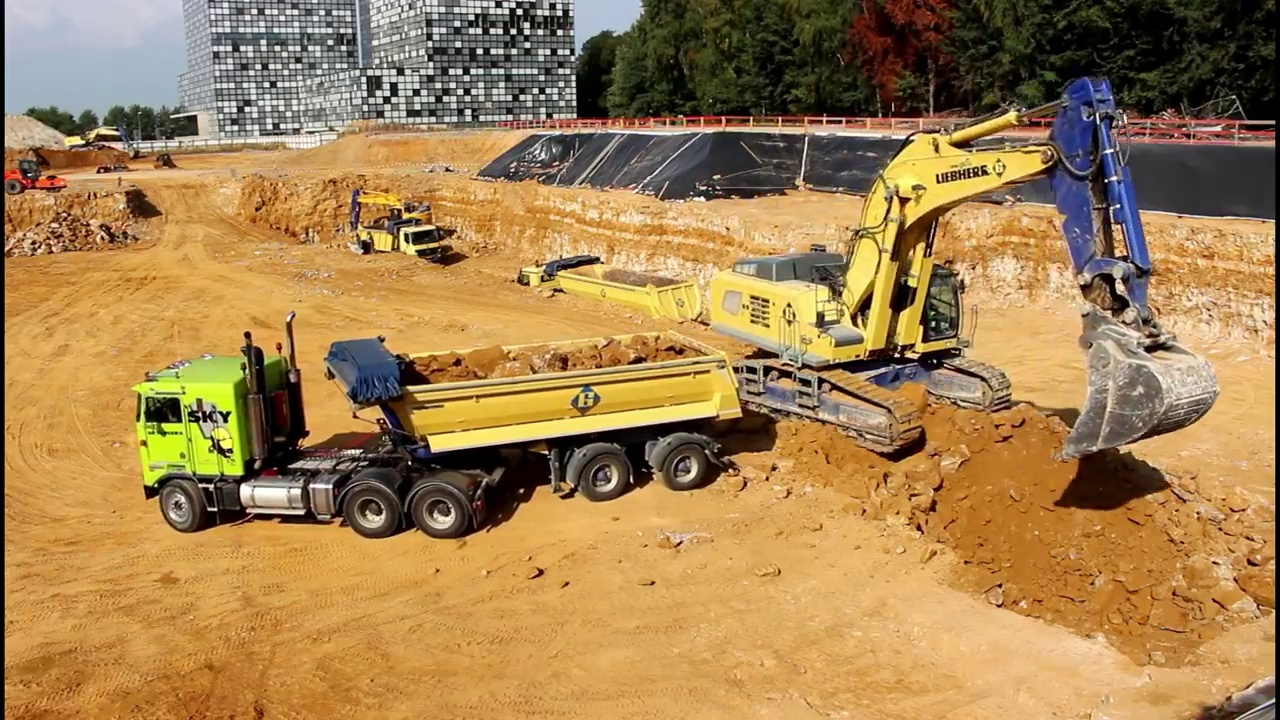compactor: (6, 158, 69, 198)
excavator: (706, 69, 1226, 462), (346, 183, 434, 250), (61, 123, 141, 165)
truck: (126, 307, 750, 543), (512, 250, 706, 355), (355, 220, 443, 272)
